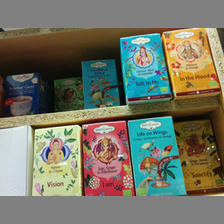tea: (127, 117, 187, 195), (161, 29, 221, 98), (83, 120, 136, 196), (119, 33, 172, 103), (32, 125, 84, 195), (175, 117, 222, 194), (81, 58, 121, 107), (4, 72, 45, 112), (53, 76, 83, 109)
